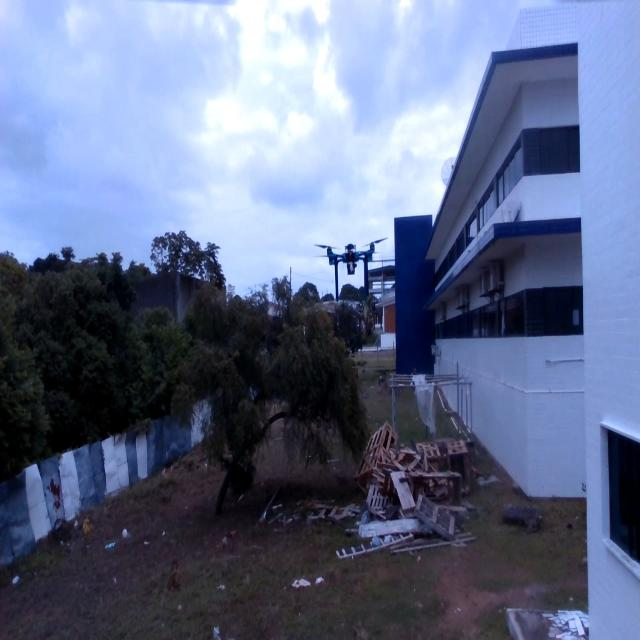-uav-: (305, 218, 397, 317)
